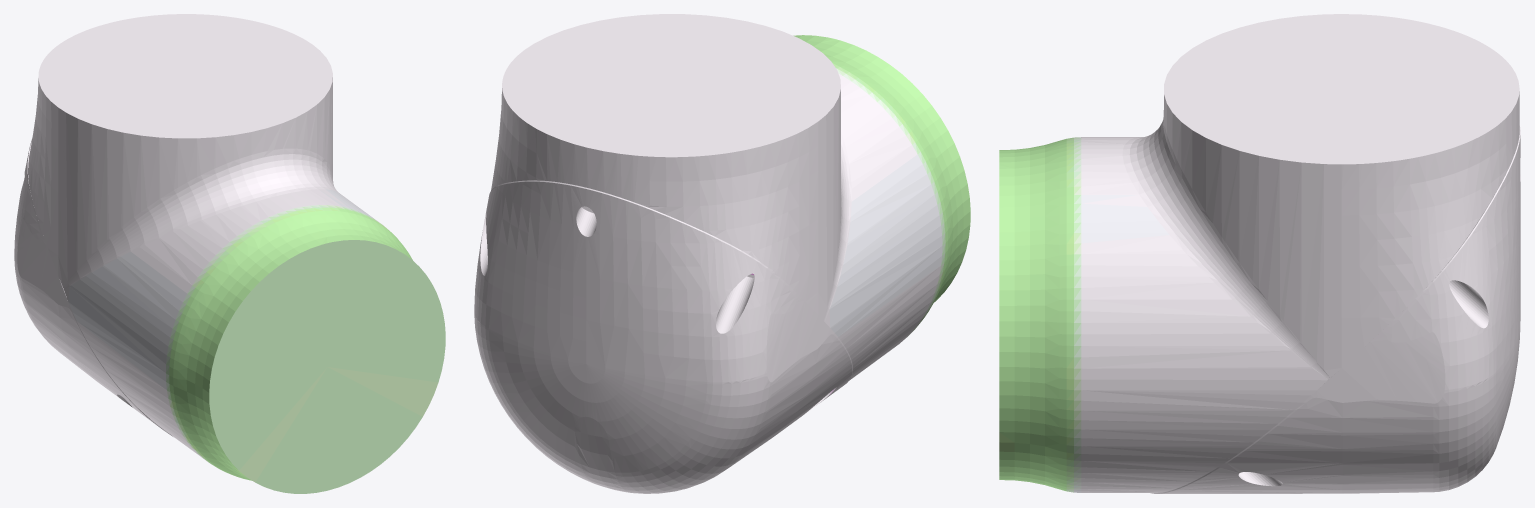
Rendered from FanucCRX5IALink1.dae.
3 renders of one model, left to right at view 1: azimuth 30°, elevation 25°; view 2: azimuth 150°, elevation 25°; view 3: azimuth 270°, elevation 25°, orthographic. The views are drawn at different scales.
Visible parts, largest first — view 1: Fanuc5iALink1; view 2: Fanuc5iALink1; view 3: Fanuc5iALink1.
Part boxes in pixels (x1,y1,x2,y2): Fanuc5iALink1: [14, 14, 445, 493]; Fanuc5iALink1: [474, 14, 970, 493]; Fanuc5iALink1: [999, 14, 1520, 493].
Size of the model in its own units: 0.13 by 0.1904 by 0.1564.
